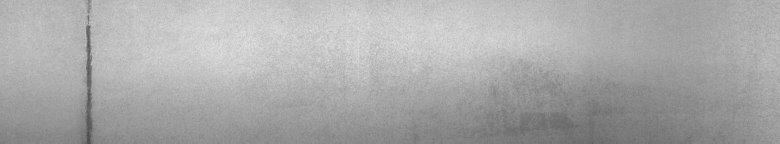hd: (80, 4, 100, 136)
